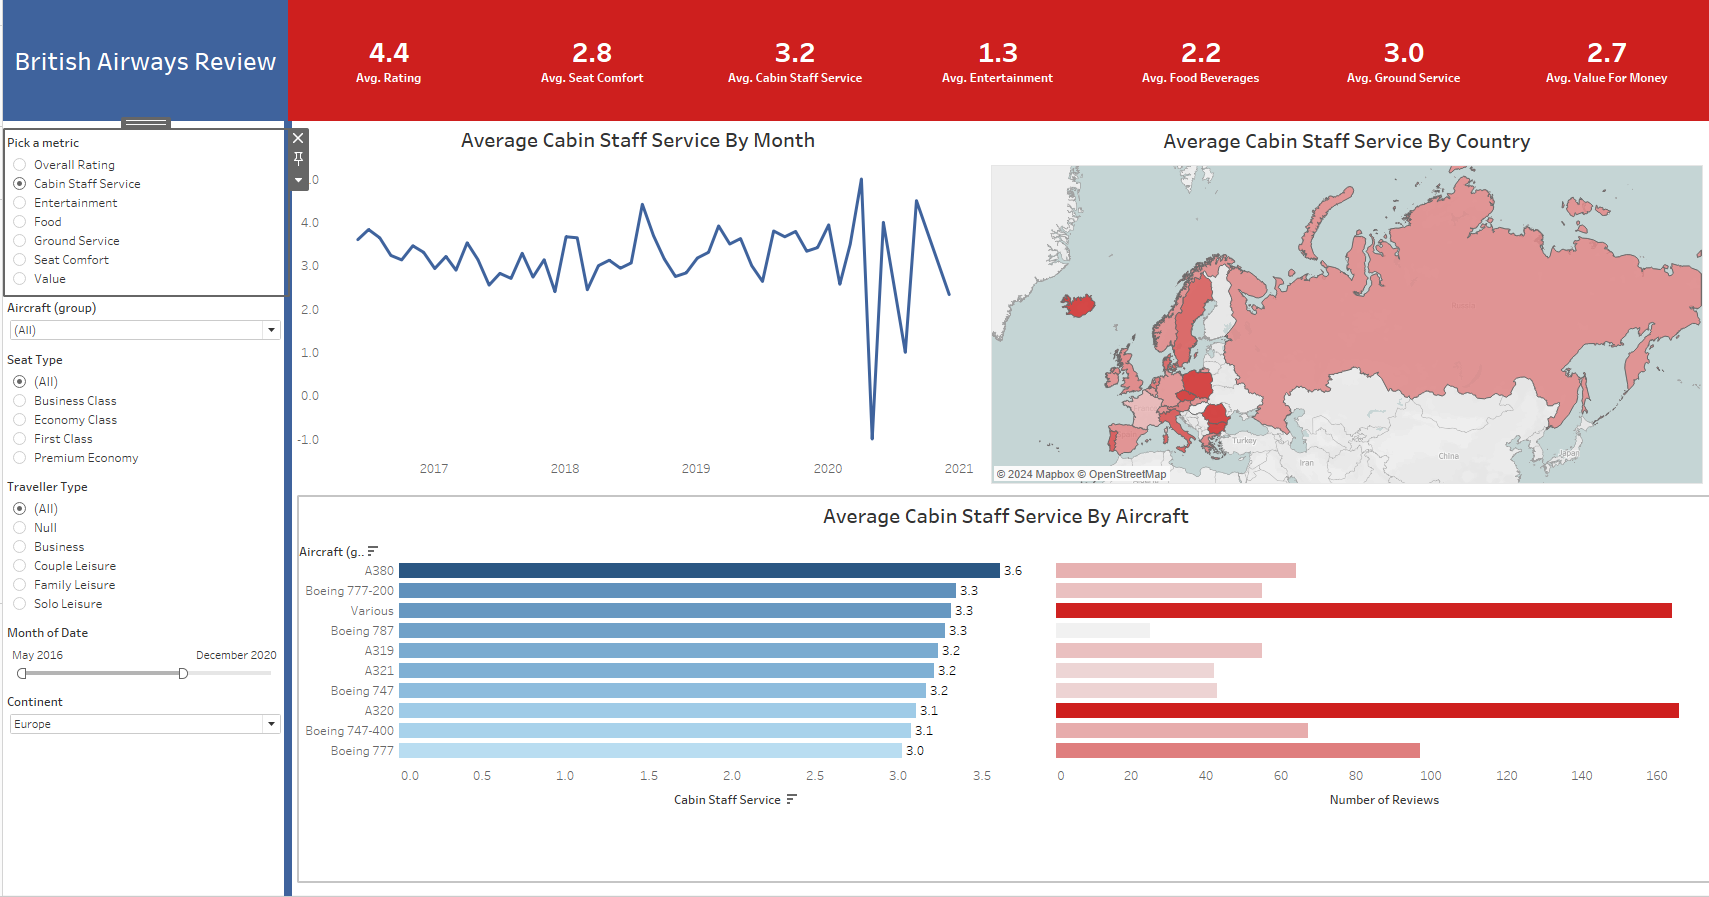

The page's visual inventory and layout, read from the dashboard file:
{"tool":"tableau","page":{"name":"Dashboard 1","canvas":[1000,1000],"units":"permille","ordinal":0},"visuals":[{"type":"text","box":[0,0,166.7,135.7]},{"type":"worksheet","title":"Summary","mark":"Automatic","box":[166.7,0,831.7,135.7]},{"type":"blank","box":[164.2,135.7,5,867.1]},{"type":"worksheet","title":"Monthly Average","mark":"Automatic","rows":["Calculation_503277313589116929"],"cols":["date"],"box":[171.7,135.7,400,404.3]},{"type":"worksheet","title":"Map","mark":"Automatic","box":[578.3,137.1,416.7,404.3]},{"type":"parameter","param":"[Parameters].[Parameter 1]","box":[0,145.7,166.7,184.2]},{"type":"filter","title":"Map","param":"[federated.1ovbo6m0clu31l15u7mku1qfpq7y].[Aircraft (group)]","box":[0,329.9,166.7,58]},{"type":"filter","title":"Map","param":"[federated.1ovbo6m0clu31l15u7mku1qfpq7y].[none:seat_type:nk]","box":[0,387.9,166.7,141.7]},{"type":"filter","title":"Map","param":"[federated.1ovbo6m0clu31l15u7mku1qfpq7y].[none:traveller_type:nk]","box":[0,529.6,166.7,163]},{"type":"worksheet","title":"Aircraft Rating","mark":"Automatic","cols":["Calculation_503277313589116929","ba_reviews.csv_734136A4AF9F4CF1818849C2F8EE7404"],"box":[173.3,555.7,827.5,428.6]},{"type":"filter","title":"Map","param":"[federated.1ovbo6m0clu31l15u7mku1qfpq7y].[tmn:date:qk]","box":[0,692.6,166.7,77]},{"type":"filter","title":"Map","param":"[federated.1ovbo6m0clu31l15u7mku1qfpq7y].[none:Continent:nk]","box":[0,769.6,166.7,58]}]}

Visuals, with their boxes on the dashboard's canvas, which has no fixed pixel size, in thousandths of its width and height (x1, y1, x2, y2). These are canvas units, not pixel positions in the 1709x897 screenshot, which may show the page scaled, cropped or inside an application window:
text: left=0, top=0, right=167, bottom=136
"Summary" worksheet: left=167, top=0, right=998, bottom=136
blank: left=164, top=136, right=169, bottom=1003
"Monthly Average" worksheet: left=172, top=136, right=572, bottom=540
"Map" worksheet: left=578, top=137, right=995, bottom=541
parameter: left=0, top=146, right=167, bottom=330
"Map" filter: left=0, top=330, right=167, bottom=388
"Map" filter: left=0, top=388, right=167, bottom=530
"Map" filter: left=0, top=530, right=167, bottom=693
"Aircraft Rating" worksheet: left=173, top=556, right=1001, bottom=984
"Map" filter: left=0, top=693, right=167, bottom=770
"Map" filter: left=0, top=770, right=167, bottom=828
